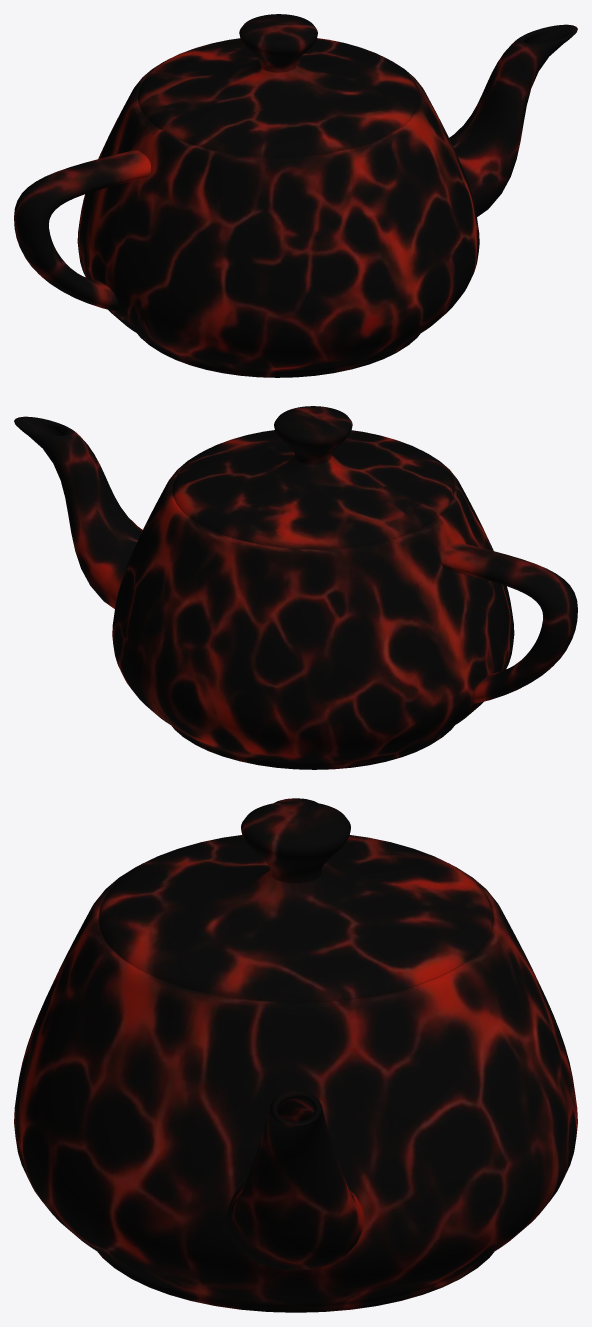
The model's file is frame_0025.glb.
3 views of the same model, one above another, from view 1: azimuth 30°, elevation 25°; view 2: azimuth 150°, elevation 25°; view 3: azimuth 270°, elevation 25° (orthographic). The views are drawn at different scales.
Parts seen in each view (by area): view 1: world; view 2: world; view 3: world.
Part boxes in pixels (x1,y1,x2,y2): world: [14, 14, 577, 377]; world: [14, 406, 577, 769]; world: [14, 798, 577, 1312].
Bounding box in the file's own units: 1 × 0.5124 × 0.6217.
Materials: 1 (1 with a texture image).
